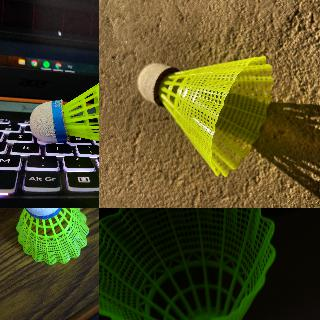shuttlecock: (99, 208, 275, 319), (138, 56, 272, 176), (29, 55, 98, 153), (16, 208, 89, 266)
